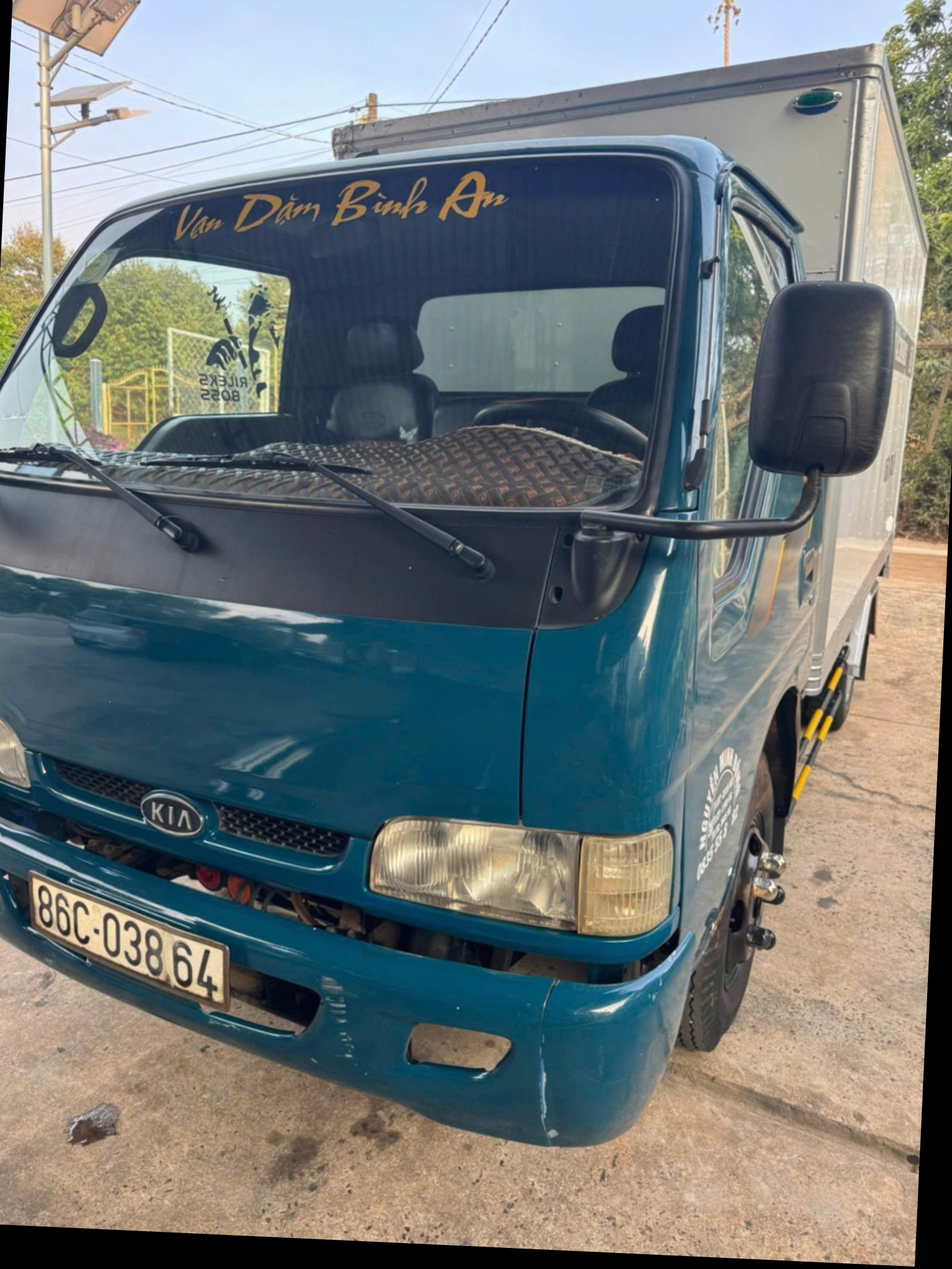Bien-so: (22, 868, 238, 1016)
